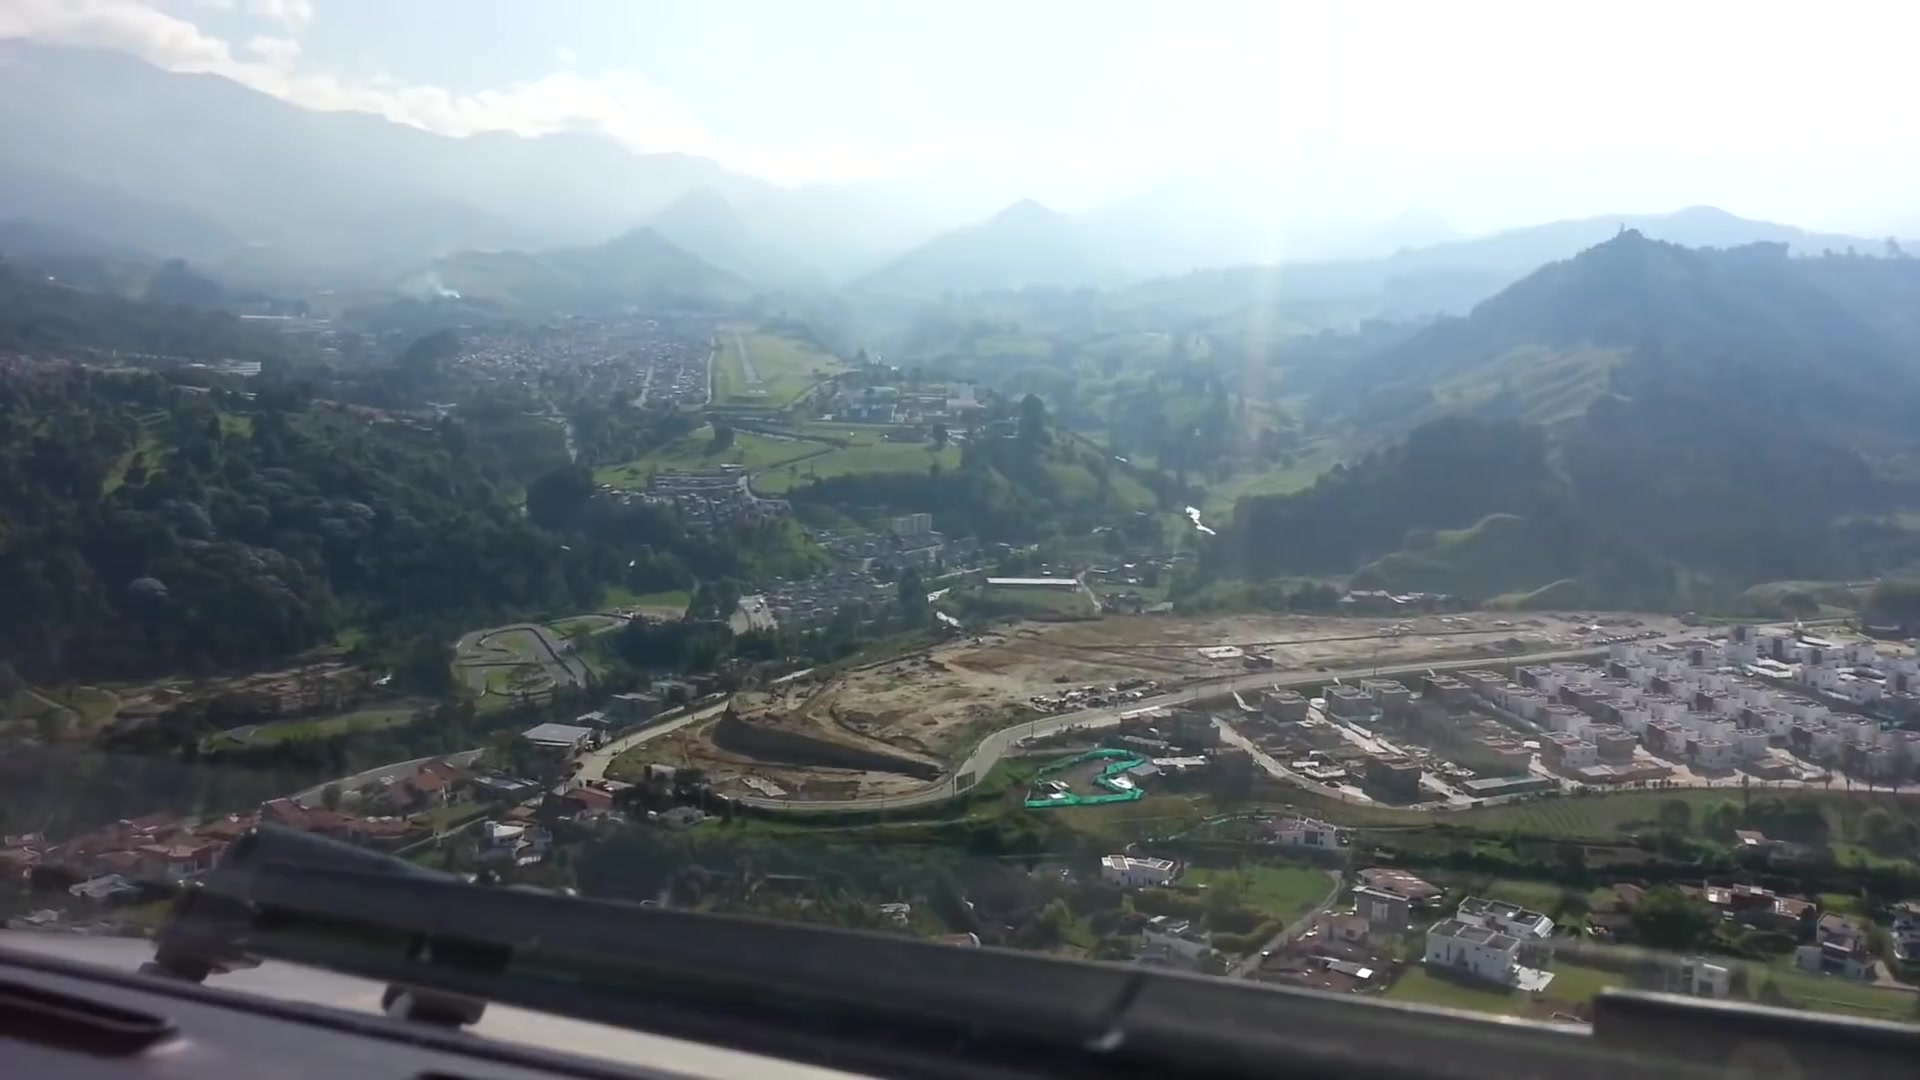runway: (733, 330, 769, 396)
